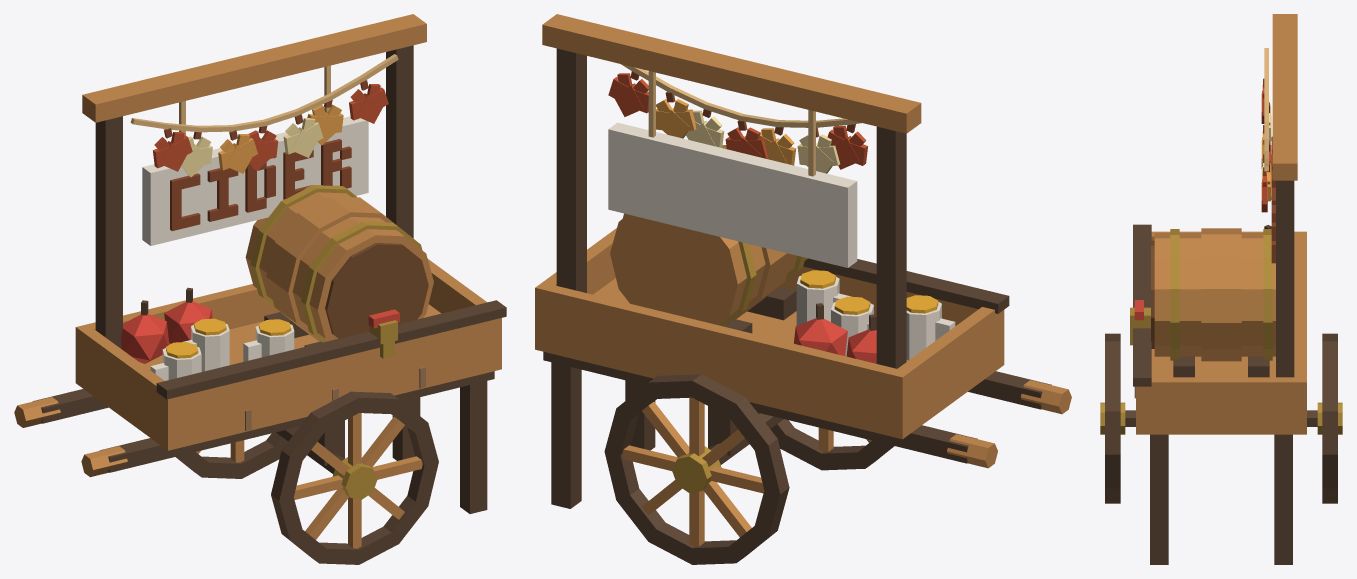
The model's file is CatCafe_Decor_HarvestCiderCart.glb.
The picture shows the model from 3 angles, left to right: view 1: azimuth 30°, elevation 25°; view 2: azimuth 150°, elevation 25°; view 3: azimuth 270°, elevation 25°; orthographic projection. The views are drawn at different scales.
Visible parts, largest first — view 1: CatCafe_Decor_HarvestCiderCart; view 2: CatCafe_Decor_HarvestCiderCart; view 3: CatCafe_Decor_HarvestCiderCart.
Part boxes in pixels (x1,y1,x2,y2): CatCafe_Decor_HarvestCiderCart: (14,14,506,564); CatCafe_Decor_HarvestCiderCart: (535,14,1071,564); CatCafe_Decor_HarvestCiderCart: (1100,14,1342,564).
Bounding box in the file's own units: 2.79 × 2.87 × 1.56.
Materials: 1 (1 with a texture image).
